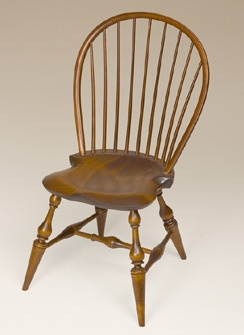obstacle: (22, 12, 208, 325)
